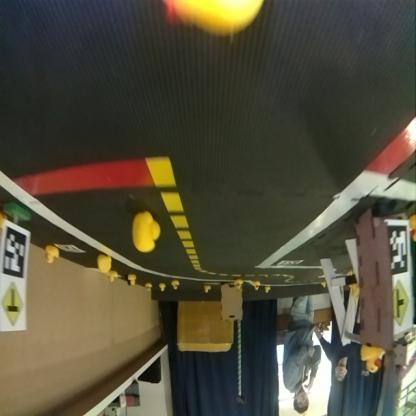Duckie: (132, 212, 160, 254), (360, 349, 381, 374), (98, 256, 111, 274), (45, 247, 56, 263), (127, 276, 136, 286), (108, 273, 117, 283), (171, 282, 177, 290), (234, 281, 240, 289), (144, 284, 150, 292), (264, 286, 270, 294), (204, 287, 210, 294), (158, 285, 164, 292), (254, 284, 260, 290)
Intersection sign: (0, 286, 22, 328), (392, 282, 407, 326)
QR code: (2, 227, 26, 278), (388, 226, 408, 274), (56, 246, 84, 254), (277, 260, 303, 268)
